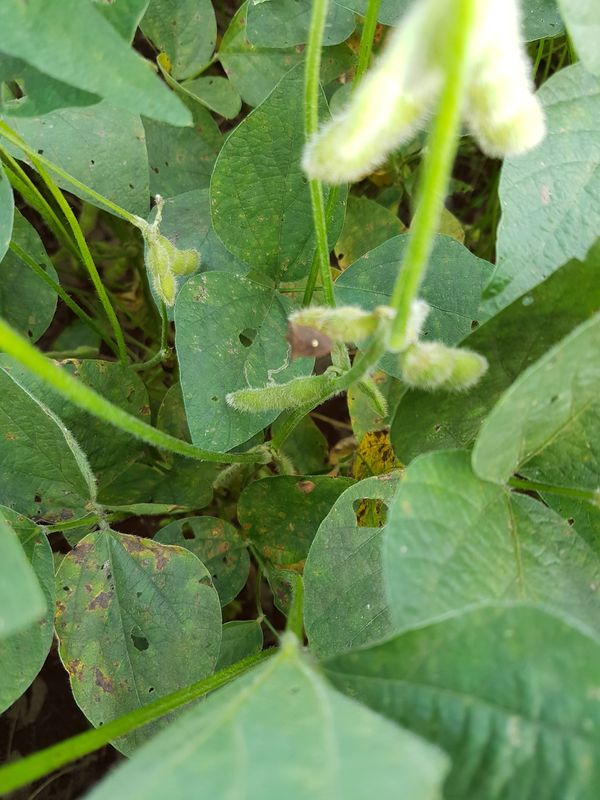Euschistus_heros_adulto: (277, 310, 342, 369)
